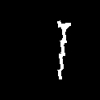half_double_crochet: (57, 21, 70, 78)
